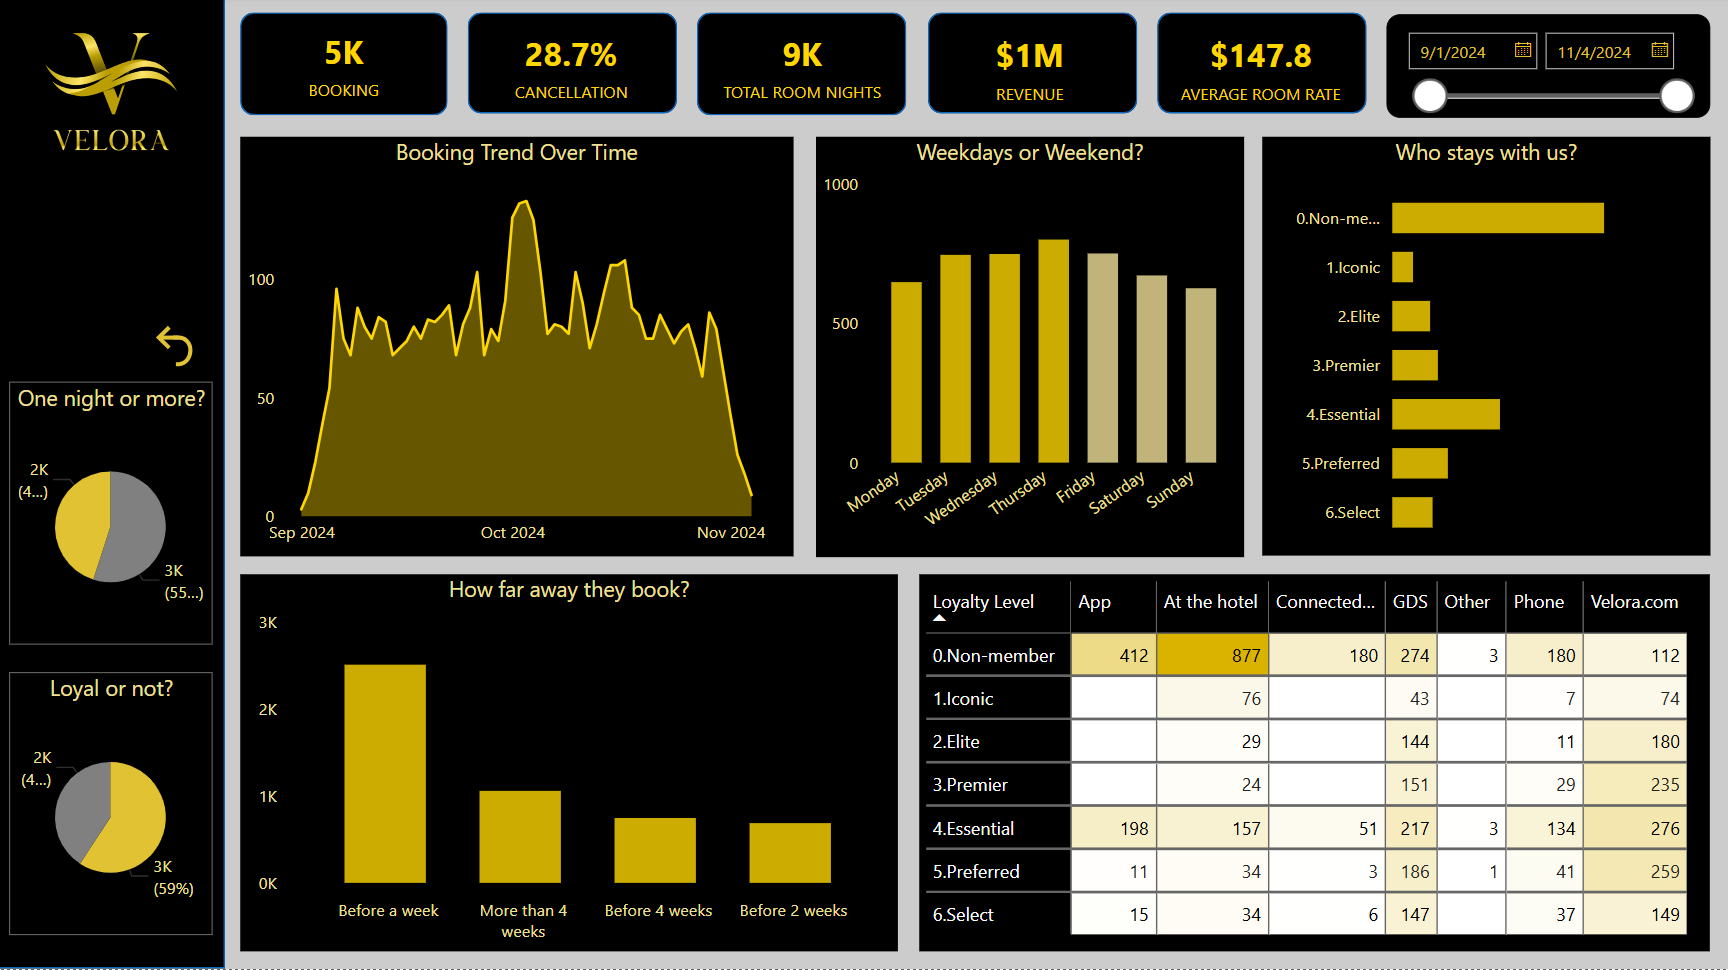

Layout of this report page (visuals, bound fields, positions):
{"tool":"powerbi","page":{"name":"Booking Report","canvas":[1280,720],"ordinal":0},"visuals":[{"type":"shape","box":[179.6,12.4,153.3,76],"z":0},{"type":"card","fields":{"Values":["Hotel Booking.Booking Count"]},"box":[183.7,13.8,145.1,73.2],"z":1000},{"type":"shape","box":[0,0,168.5,719.7],"z":2000},{"type":"shape","box":[348.1,12.4,154.7,74.6],"z":3000},{"type":"card","fields":{"Values":["Hotel Booking.Cancellation %"]},"box":[352.3,16.6,145.1,70.5],"z":4000},{"type":"shape","box":[518,12.4,154.7,76],"z":5000},{"type":"card","fields":{"Values":["Hotel Booking.Total Room Nights"]},"box":[522.2,15.2,145.1,73.2],"z":6000},{"type":"shape","box":[688,12.4,154.7,74.6],"z":7000},{"type":"card","fields":{"Values":["Sum(Hotel Booking.Revenue)"]},"box":[690.7,16.6,145.1,73.2],"z":8000},{"type":"shape","box":[857.9,12.4,154.7,74.6],"z":9000},{"type":"card","fields":{"Values":["Hotel Booking.Average Room Rate"]},"box":[862,19.3,145.1,67.7],"z":10000},{"type":"image","box":[1.3,0,166.9,135.9],"z":11000},{"type":"areaChart","title":"Booking Trend Over Time","fields":{"Y":["Hotel Booking.Booking Count"],"Category":["Hotel Booking.Stay Date.Variation.Date Hierarchy.Year","Hotel Booking.Stay Date.Variation.Date Hierarchy.Quarter","Hotel Booking.Stay Date.Variation.Date Hierarchy.Month","Hotel Booking.Stay Date.Variation.Date Hierarchy.Day"]},"box":[179.9,104.8,408.9,310.6],"z":12000},{"type":"pivotTable","fields":{"Rows":["Hotel Booking.Loyalty Level"],"Columns":["Hotel Booking.Booking Channel"],"Values":["Hotel Booking.Booking Count"]},"box":[682.4,428.2,584.4,279.1],"z":13000},{"type":"columnChart","title":"How far away  they book?","fields":{"Y":["Hotel Booking.Booking Count"],"Category":["Hotel Booking.Lead Time Segments"]},"box":[179.6,428.2,486.3,279.1],"z":14000},{"type":"columnChart","title":"Weekdays or Weekend?","fields":{"Y":["Hotel Booking.Booking Count"],"Category":["Hotel Booking.Day Name"]},"box":[605.1,105,316.4,310.8],"z":15000},{"type":"barChart","title":"Who stays with us?","fields":{"Category":["Hotel Booking.Loyalty Level"],"Y":["Hotel Booking.Booking Count"]},"box":[935.2,105,331.5,309.4],"z":16000},{"type":"actionButton","box":[111.3,239.4,47.9,40.1],"z":17000},{"type":"pieChart","title":"One night or more?","fields":{"Category":["Hotel Booking.One Night or More"],"Y":["Hotel Booking.Booking Count"]},"box":[9.1,286,150.1,194.1],"z":18000},{"type":"pieChart","title":"Loyal or not?","fields":{"Y":["Hotel Booking.Booking Count"],"Category":["Hotel Booking.Loyal or Non Loyal"]},"box":[9.1,500.8,150.1,194.1],"z":19000},{"type":"slicer","fields":{"Values":["Hotel Booking.Stay Date"]},"box":[1027.4,14.2,239.4,76.3],"z":20000}]}

Visuals, with their boxes in screenshot pixels (x1, y1, x2, y2), scaled from the page's 1280x720 canvas onto the 1728x970 screenshot:
shape: <region>242, 17, 449, 119</region>
card - Hotel Booking.Booking Count: <region>248, 19, 444, 117</region>
shape: <region>0, 0, 227, 969</region>
shape: <region>470, 17, 679, 117</region>
card - Hotel Booking.Cancellation %: <region>476, 22, 671, 117</region>
shape: <region>699, 17, 908, 119</region>
card - Hotel Booking.Total Room Nights: <region>705, 20, 901, 119</region>
shape: <region>929, 17, 1138, 117</region>
card - Sum(Hotel Booking.Revenue): <region>932, 22, 1128, 121</region>
shape: <region>1158, 17, 1367, 117</region>
card - Hotel Booking.Average Room Rate: <region>1164, 26, 1360, 117</region>
image: <region>2, 0, 227, 183</region>
"Booking Trend Over Time" areaChart: <region>243, 141, 795, 560</region>
pivotTable - Hotel Booking.Loyalty Level x Hotel Booking.Booking Channel: <region>921, 577, 1710, 953</region>
"How far away  they book?" columnChart: <region>242, 577, 899, 953</region>
"Weekdays or Weekend?" columnChart: <region>817, 141, 1244, 560</region>
"Who stays with us?" barChart: <region>1263, 141, 1710, 558</region>
actionButton: <region>150, 323, 215, 377</region>
"One night or more?" pieChart: <region>12, 385, 215, 647</region>
"Loyal or not?" pieChart: <region>12, 675, 215, 936</region>
slicer - Hotel Booking.Stay Date: <region>1387, 19, 1710, 122</region>
